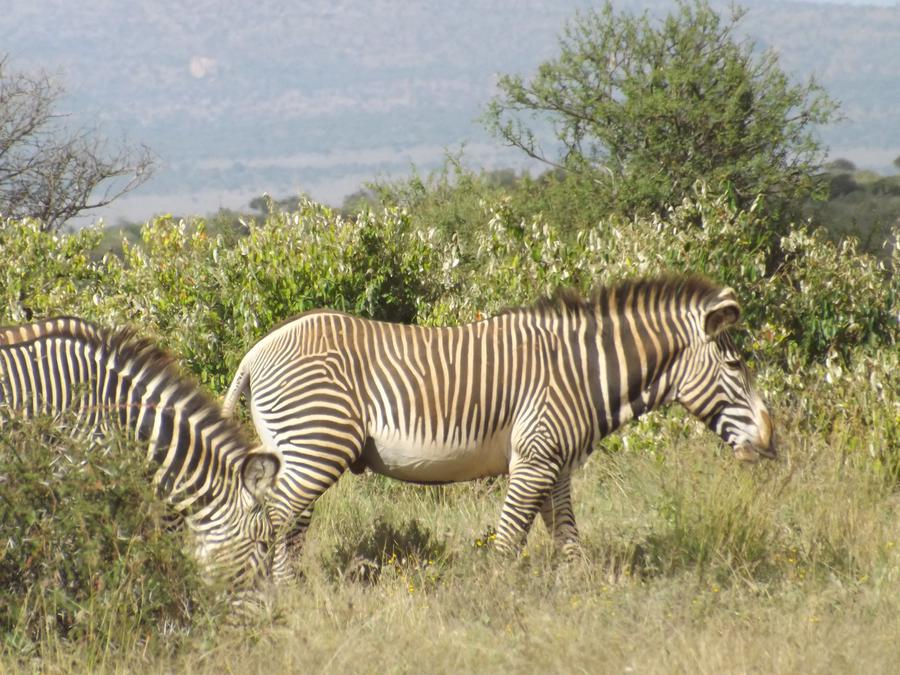zebra_grevys: (220, 292, 587, 481)
